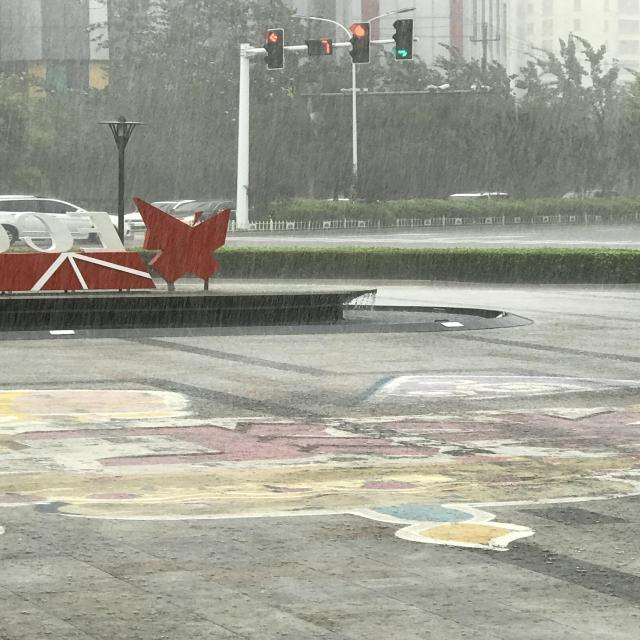car: (191, 503, 241, 638), (202, 374, 226, 467), (194, 473, 236, 516)
